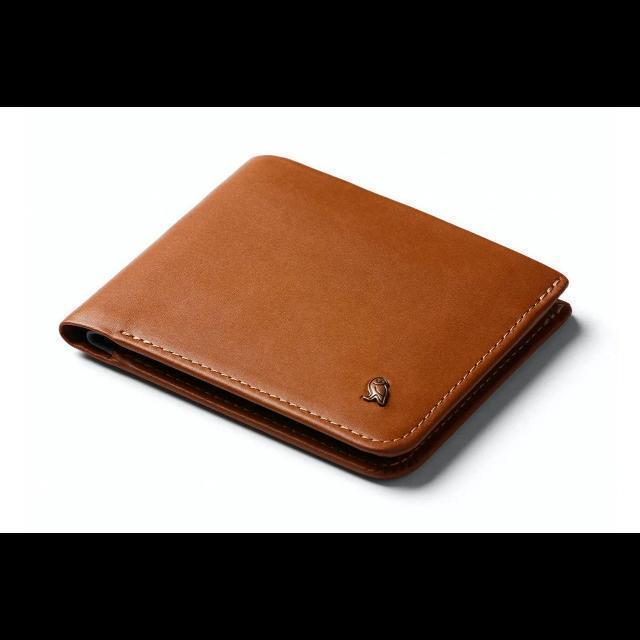wallet: (60, 152, 572, 480)
